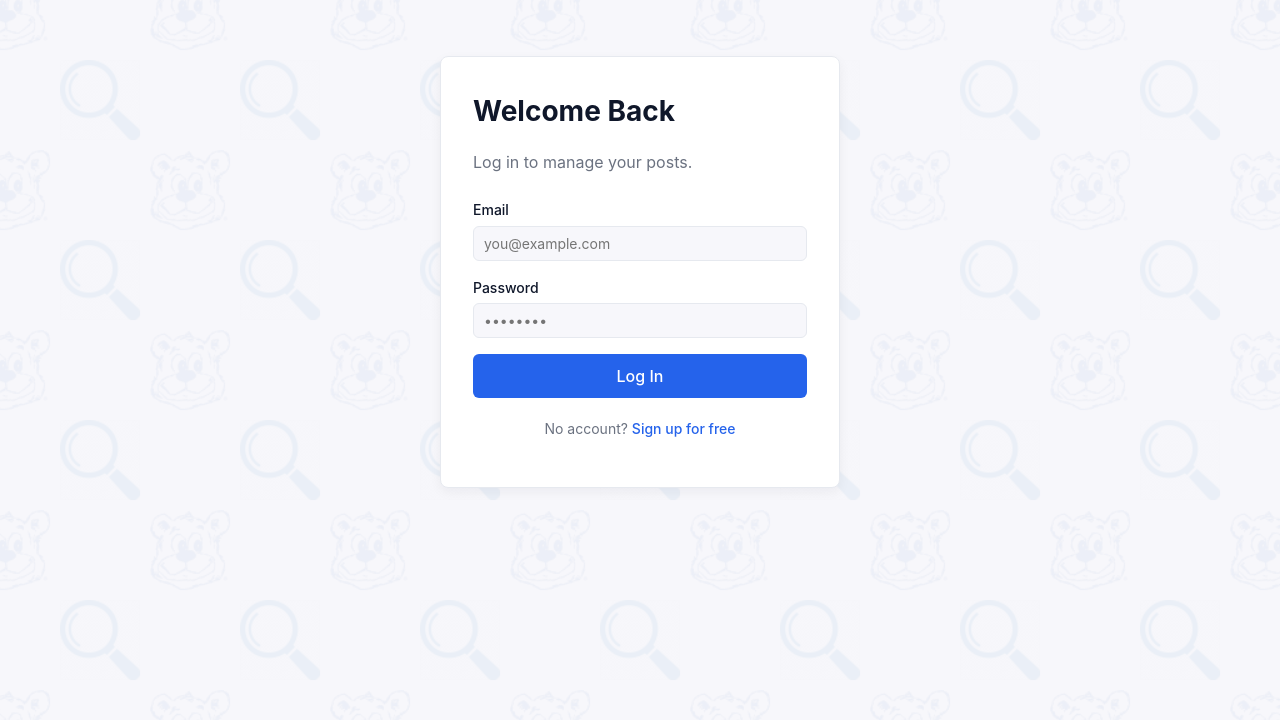
Test: LoginPage › shows an error message when login fails
The width and height of the screenshot is (1280, 720).
In the field labelled "Email": (640, 243) [473,226,807,261], type "user@example.com"
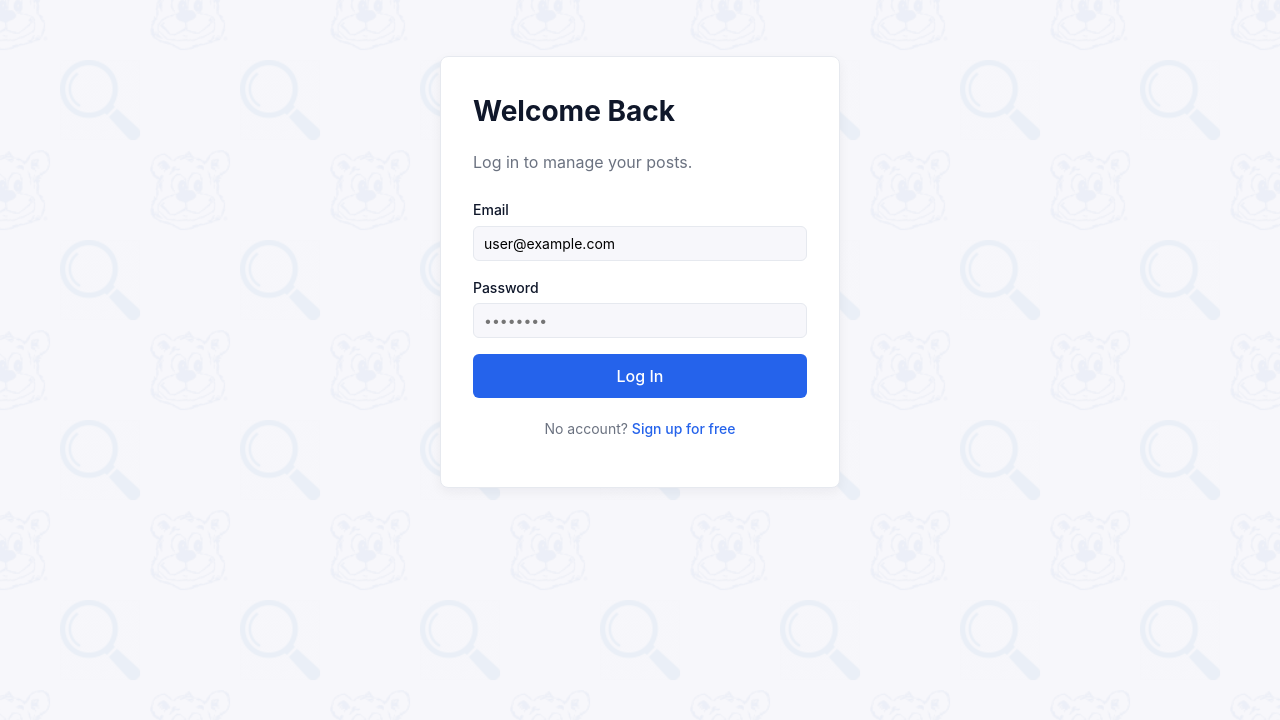
In the password field labelled "Password": (640, 321) [473,303,807,338], type "WrongPass!"
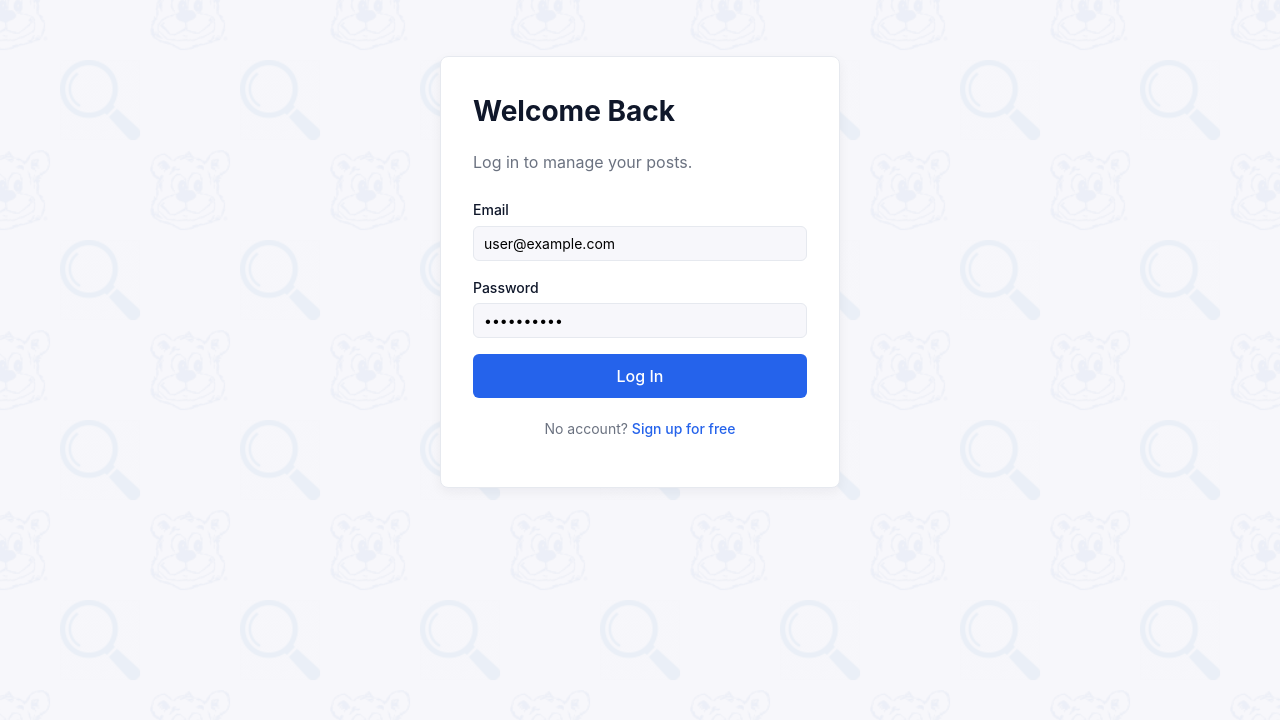
Click the button "Log In": (640, 376) [473,354,807,398]
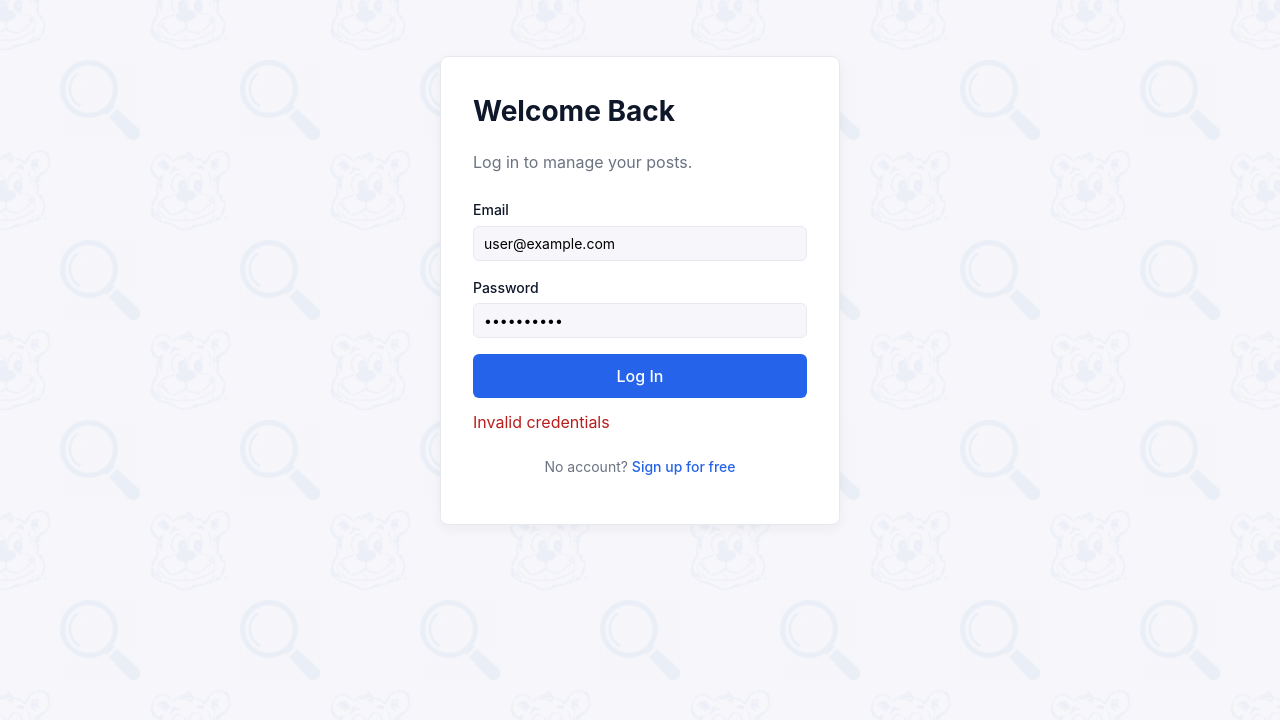
Result: the text "Invalid credentials" is shown at [473,412,610,432]
